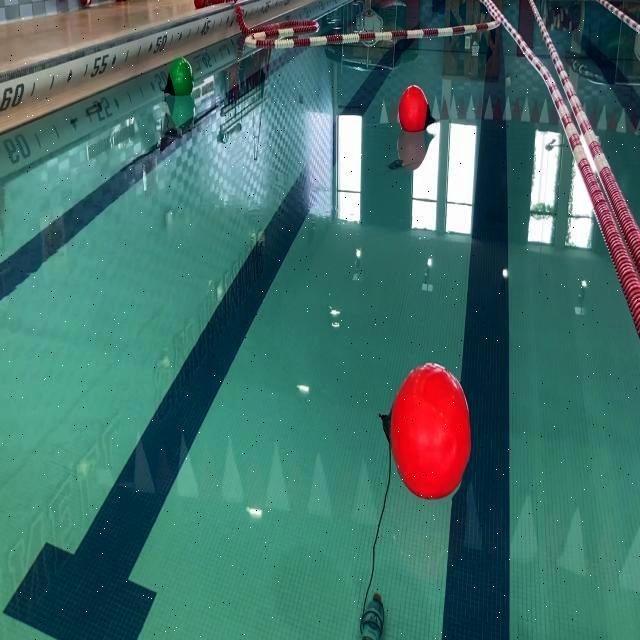buoy: (377, 361, 474, 498), (400, 86, 438, 133), (163, 56, 193, 98)
